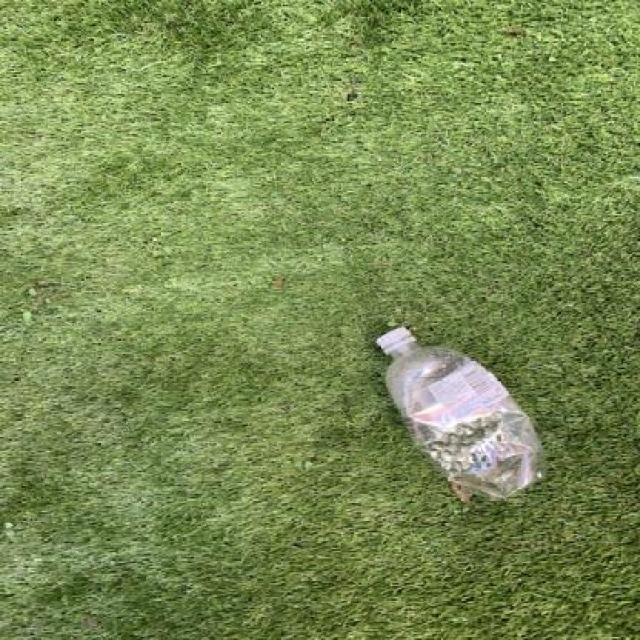trash: (376, 324, 561, 499)
